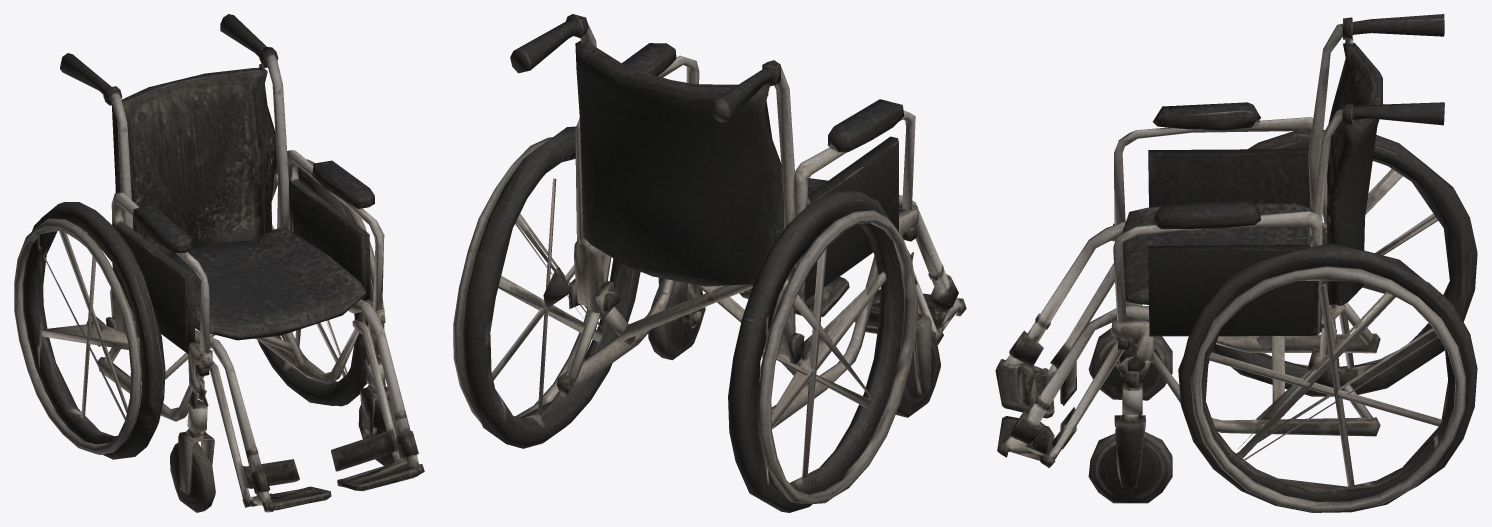
The model's file is p7-wheelchair-t25.glb.
3 views of the same model, side by side, from view 1: azimuth 30°, elevation 25°; view 2: azimuth 150°, elevation 25°; view 3: azimuth 270°, elevation 25° (orthographic). The views are drawn at different scales.
Parts seen in each view (by area): view 1: p7-wheelchair-t25; view 2: p7-wheelchair-t25; view 3: p7-wheelchair-t25.
Part boxes in pixels (x1,y1,x2,y2): p7-wheelchair-t25: (14, 14, 424, 512); p7-wheelchair-t25: (453, 14, 966, 512); p7-wheelchair-t25: (995, 14, 1477, 512).
Size of the model in its own units: 0.716 by 0.95 by 1.05.
1 material, 1 textured.
